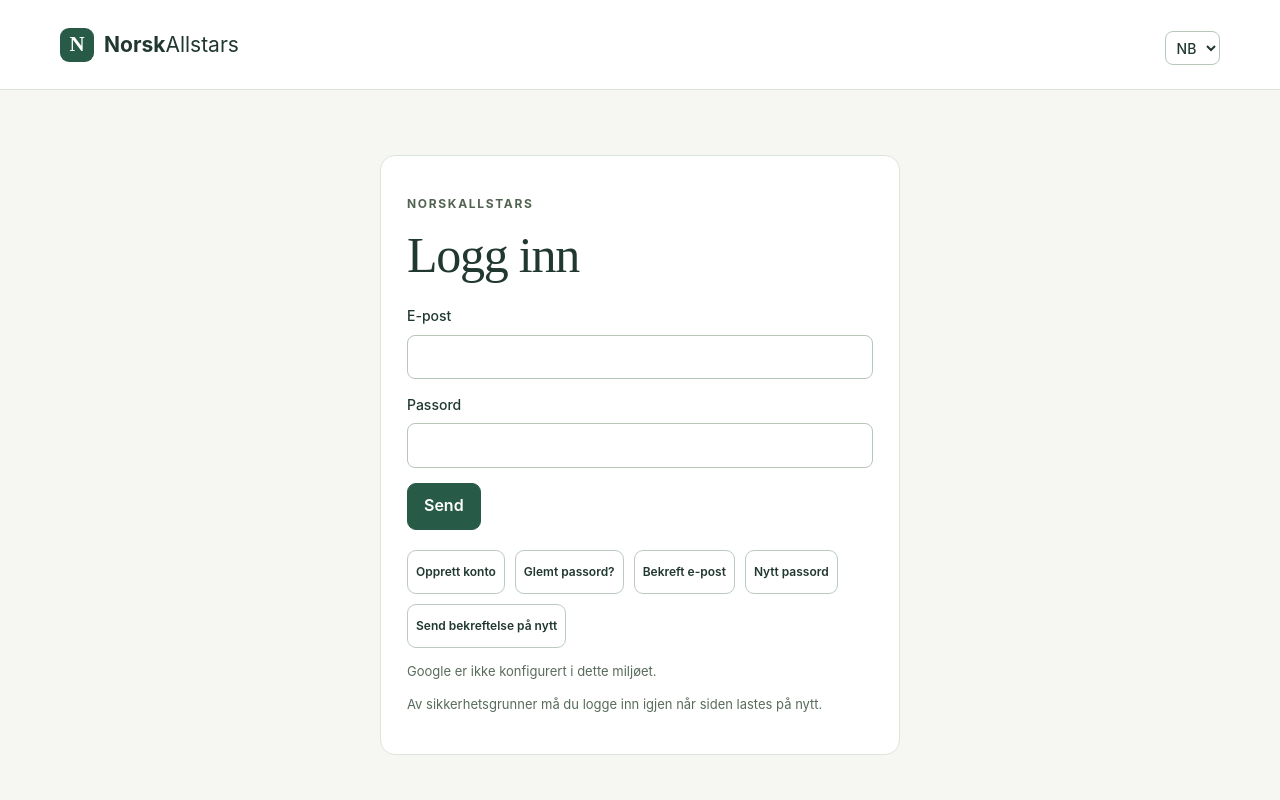
Test: dashboard learning-time presentation › shows — for 0 recorded seconds (0 timed attempts)
The width and height of the screenshot is (1280, 800).
Type "synthetic@example.com" into the field labelled "E-post". click: (640, 357)
box: x1=407 y1=335 x2=873 y2=379
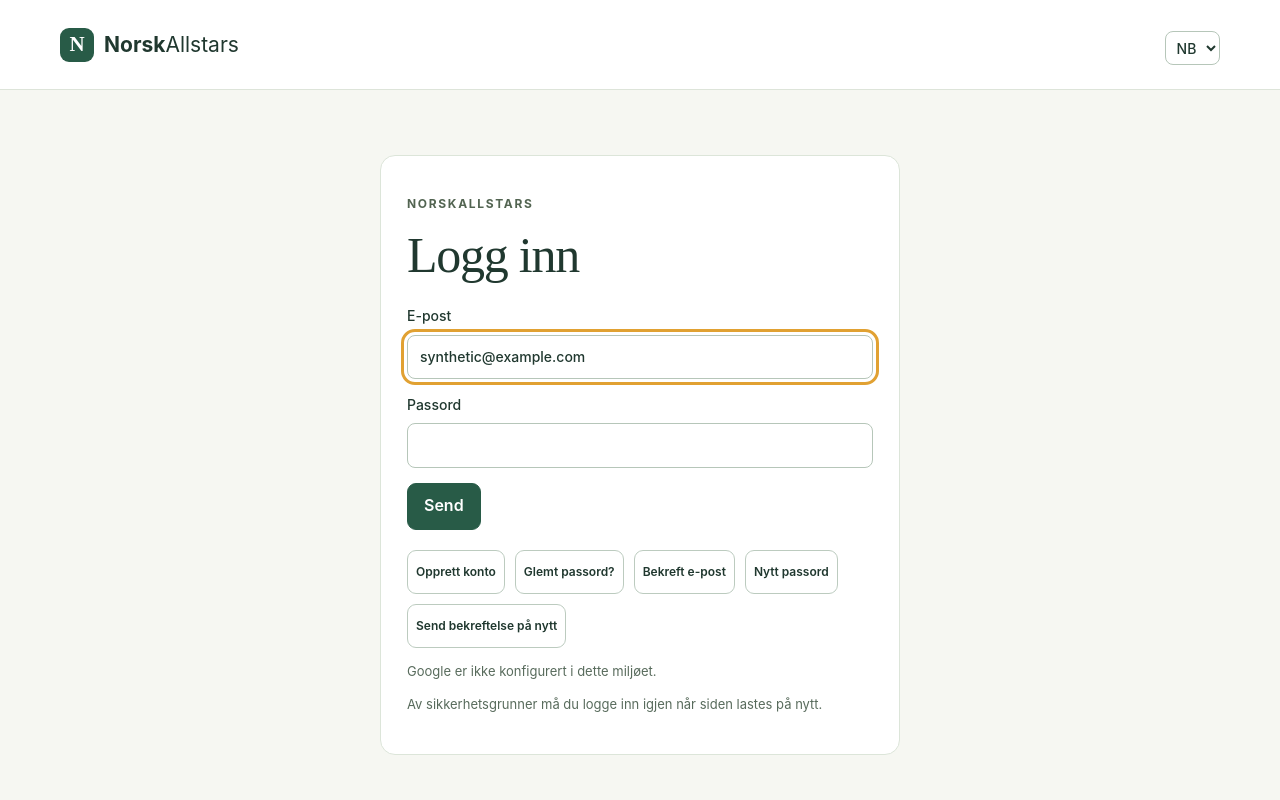
Type "synthetic-test-only-password" into the password field labelled "Passord". click: (640, 446)
box: x1=407 y1=423 x2=873 y2=468
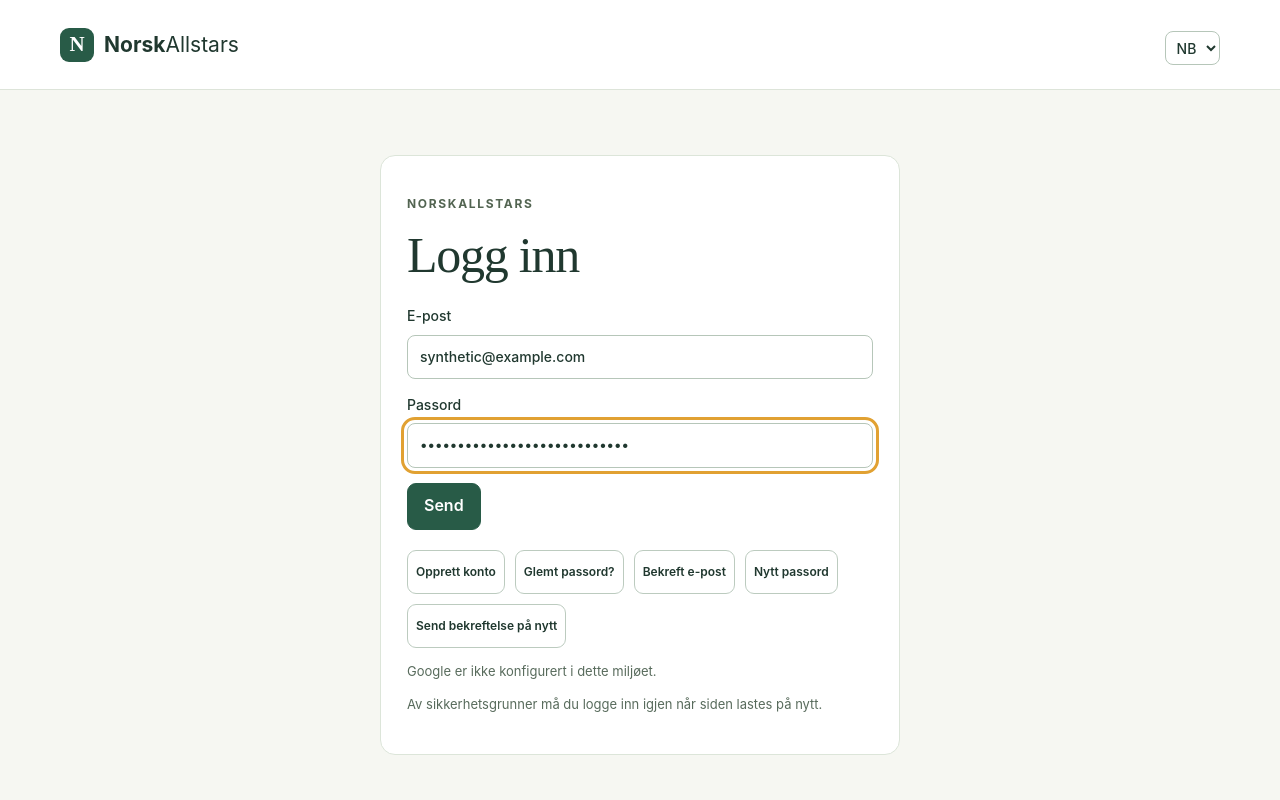
Click the button "Send". click: (444, 506)
box: x1=407 y1=483 x2=481 y2=530
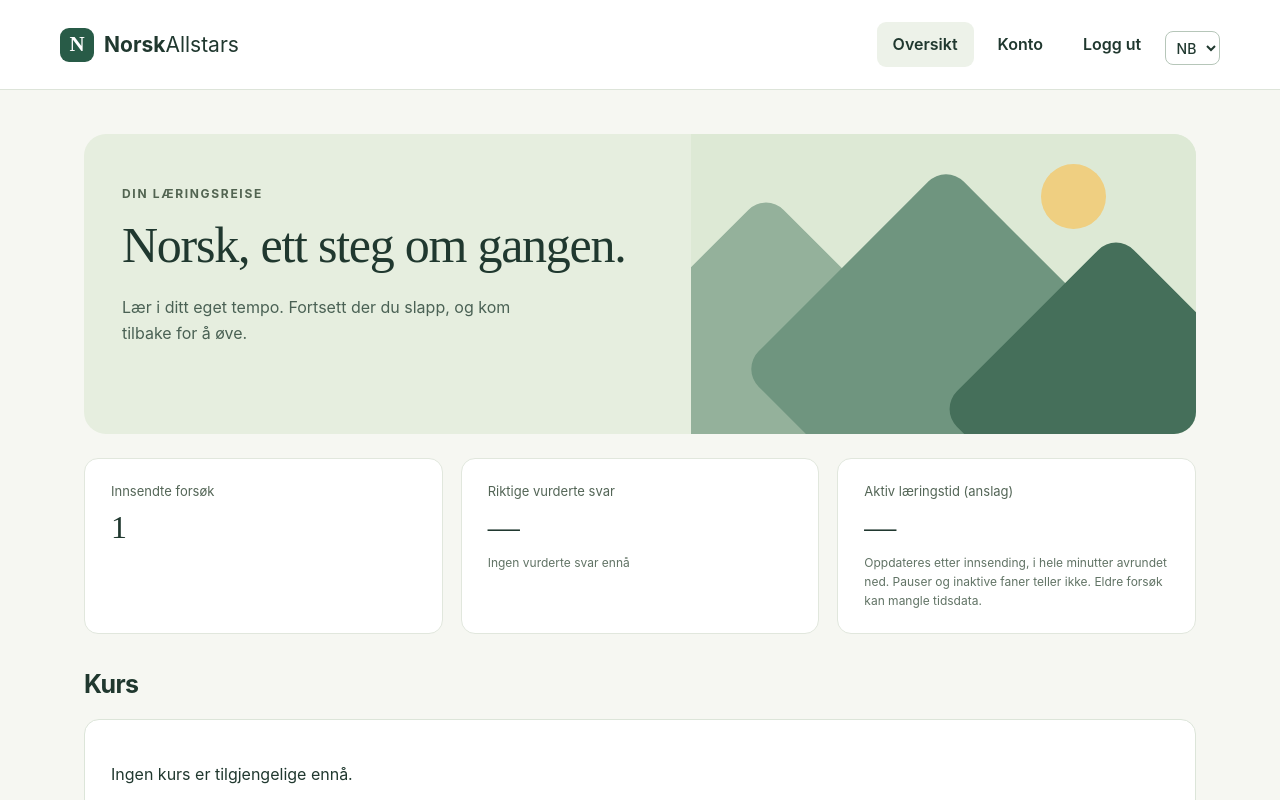
Result: the text "—" below "Aktiv læringstid (anslag)" is shown at x1=864 y1=509 x2=896 y2=545
Result: the text "Oppdateres etter innsending" is shown at x1=864 y1=555 x2=1167 y2=608
